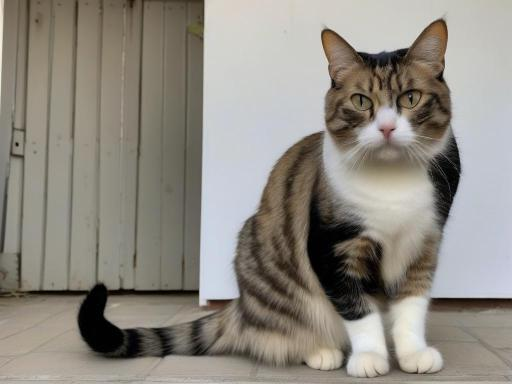cat_sitting: (78, 20, 461, 377)
